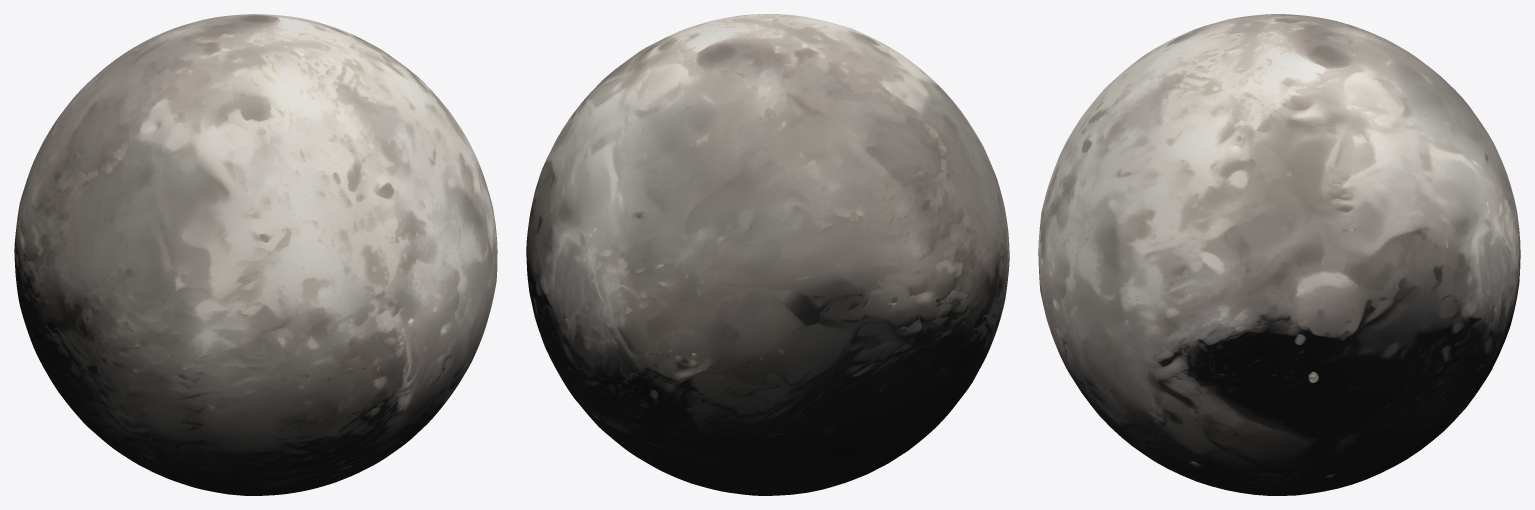
File: base_basic_shaded.glb
3 views of the same model, side by side, from view 1: azimuth 30°, elevation 25°; view 2: azimuth 150°, elevation 25°; view 3: azimuth 270°, elevation 25° (orthographic).
Visible parts, largest first — view 1: model; view 2: model; view 3: model.
Boxes of the visible parts, x1,y1,x2,y2 form: model: (14, 14, 497, 495); model: (526, 14, 1009, 495); model: (1038, 14, 1520, 495).
Bounding box in the file's own units: 1.9 × 1.9 × 1.9.
1 material, 1 textured.
